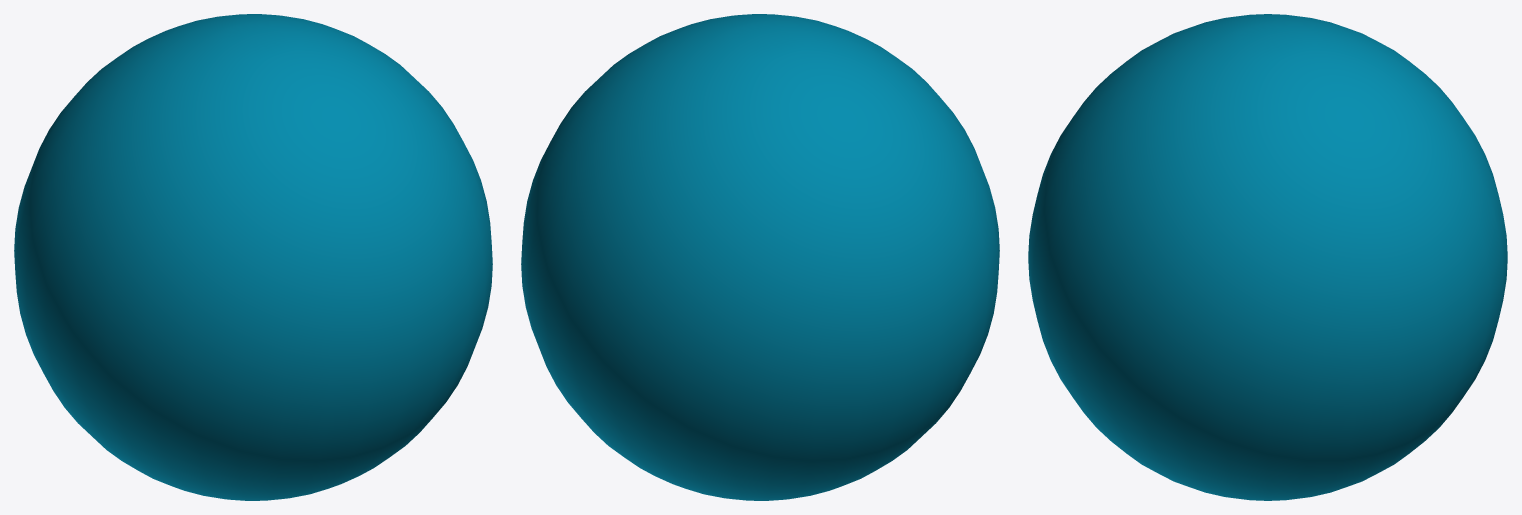
The model's file is XP_Loot_MDL_v3.fbx.
3 renders of one model, left to right at view 1: azimuth 30°, elevation 25°; view 2: azimuth 150°, elevation 25°; view 3: azimuth 270°, elevation 25°, orthographic.
Parts seen in each view (by area): view 1: pSphere7; view 2: pSphere7; view 3: pSphere7.
Boxes of the visible parts, x1,y1,x2,y2 form: pSphere7: [14, 14, 492, 500]; pSphere7: [521, 14, 999, 500]; pSphere7: [1028, 14, 1507, 500].
Size of the model in its own units: 323 by 330 by 323.
